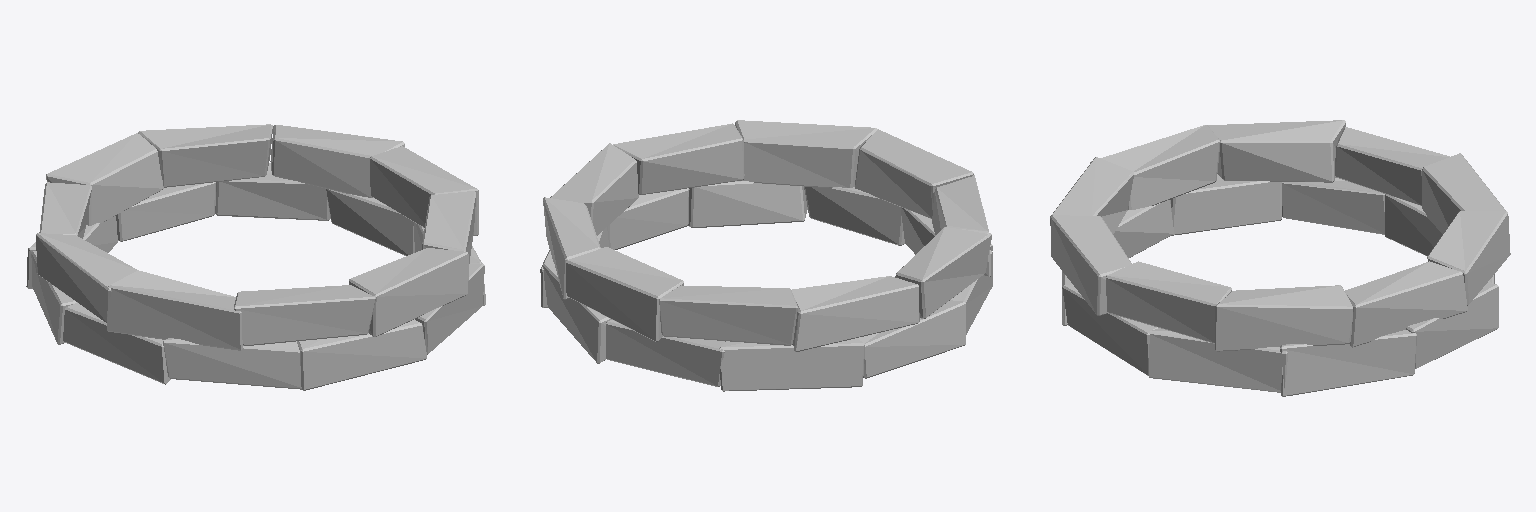
The model's file is fireplace.obj.
3 views of the same model, side by side, from view 1: azimuth 30°, elevation 25°; view 2: azimuth 150°, elevation 25°; view 3: azimuth 270°, elevation 25° (orthographic).
Parts seen in each view (by area): view 1: Cube; view 2: Cube; view 3: Cube.
Boxes of the visible parts, <box> form: Cube: <box>26,124,485,390</box>; Cube: <box>540,120,992,391</box>; Cube: <box>1050,120,1510,396</box>.
Bounding box in the file's own units: 1.6 × 0.3488 × 1.62.